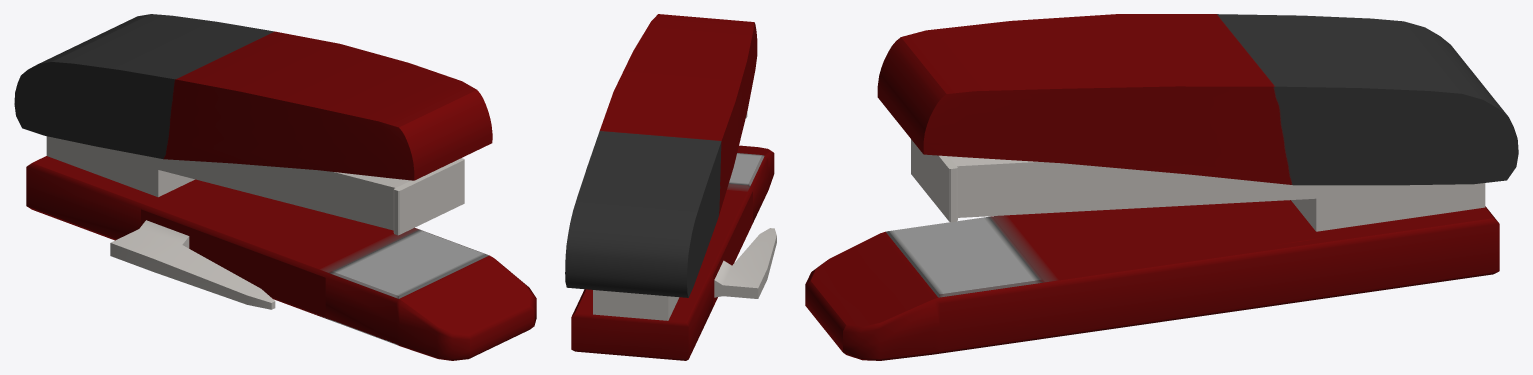
Rendered from Stapler_Textured_title.fbx.
3 views of the same model, side by side, from view 1: azimuth 30°, elevation 25°; view 2: azimuth 150°, elevation 25°; view 3: azimuth 270°, elevation 25° (orthographic). The views are drawn at different scales.
Visible parts, largest first — view 1: StaplerDeskBase, TopStaplerDesk; view 2: TopStaplerDesk, StaplerDeskBase; view 3: StaplerDeskBase, TopStaplerDesk.
Boxes of the visible parts, <box> form: StaplerDeskBase: <box>26,136,536,360</box>; TopStaplerDesk: <box>14,14,492,180</box>; TopStaplerDesk: <box>565,14,757,297</box>; StaplerDeskBase: <box>571,112,776,360</box>; StaplerDeskBase: <box>805,139,1499,360</box>; TopStaplerDesk: <box>877,14,1518,185</box>.
Size of the model in its own units: 0.4464 by 0.3321 by 0.84.
